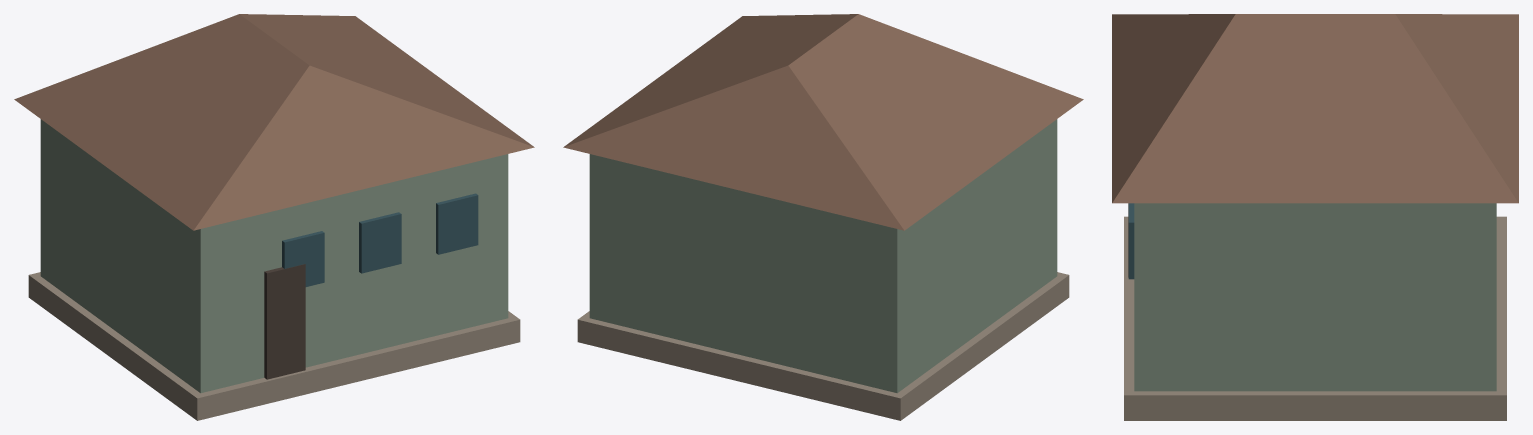
The model's file is arizona-timber-house-hipped_lod1.glb.
The picture shows the model from 3 angles, left to right: view 1: azimuth 30°, elevation 25°; view 2: azimuth 150°, elevation 25°; view 3: azimuth 270°, elevation 25°; orthographic projection. The views are drawn at different scales.
Parts seen in each view (by area): view 1: RF_AZ_Hip_Walls, RF_AZ_Hip_HippedRoof, RF_AZ_Hip_Foundation, RF_AZ_Hip_Door, RF_AZ_Hip_Window.002, RF_AZ_Hip_Window.001, RF_AZ_Hip_Window; view 2: RF_AZ_Hip_Walls, RF_AZ_Hip_HippedRoof, RF_AZ_Hip_Foundation; view 3: RF_AZ_Hip_HippedRoof, RF_AZ_Hip_Walls, RF_AZ_Hip_Foundation, RF_AZ_Hip_Window.002.
Boxes of the visible parts, bbox=[...] form: RF_AZ_Hip_Walls: bbox=[40, 119, 508, 393]; RF_AZ_Hip_HippedRoof: bbox=[14, 14, 534, 230]; RF_AZ_Hip_Foundation: bbox=[28, 272, 520, 420]; RF_AZ_Hip_Door: bbox=[264, 264, 305, 379]; RF_AZ_Hip_Window.002: bbox=[436, 193, 478, 254]; RF_AZ_Hip_Window.001: bbox=[359, 212, 401, 273]; RF_AZ_Hip_Window: bbox=[282, 231, 324, 286]; RF_AZ_Hip_Walls: bbox=[589, 119, 1057, 393]; RF_AZ_Hip_HippedRoof: bbox=[563, 14, 1083, 230]; RF_AZ_Hip_Foundation: bbox=[577, 272, 1069, 420]; RF_AZ_Hip_HippedRoof: bbox=[1112, 14, 1518, 203]; RF_AZ_Hip_Walls: bbox=[1134, 203, 1496, 391]; RF_AZ_Hip_Foundation: bbox=[1124, 216, 1506, 420]; RF_AZ_Hip_Window.002: bbox=[1128, 203, 1134, 279].
Bounding box in the file's own units: 11.1 × 8.7 × 10.1.
